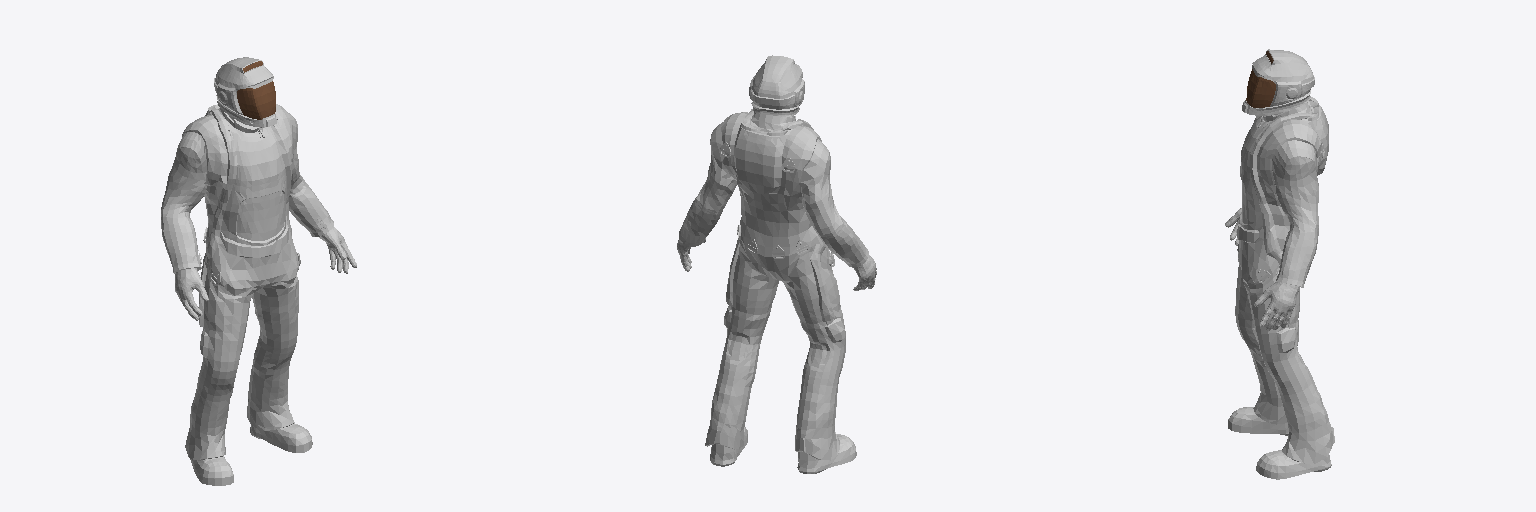
File: spacesuit_confederation_of_planets.obj
3 views of the same model, side by side, from view 1: azimuth 30°, elevation 25°; view 2: azimuth 150°, elevation 25°; view 3: azimuth 270°, elevation 25° (orthographic).
Visible parts, largest first — view 1: Object_7, Helmet_Helmet_0, Helmet_Glass_0; view 2: Object_7, Helmet_Helmet_0; view 3: Object_7, Helmet_Helmet_0, Helmet_Glass_0.
Part boxes in pixels (x1,y1,x2,y2): Object_7: (161, 104, 356, 485); Helmet_Helmet_0: (214, 57, 276, 127); Helmet_Glass_0: (237, 61, 275, 119); Object_7: (677, 109, 876, 473); Helmet_Helmet_0: (749, 55, 804, 116); Object_7: (1225, 97, 1334, 479); Helmet_Helmet_0: (1242, 49, 1314, 115); Helmet_Glass_0: (1246, 51, 1275, 107).
Bounding box in the file's own units: 0.8897 × 1.84 × 0.4615.